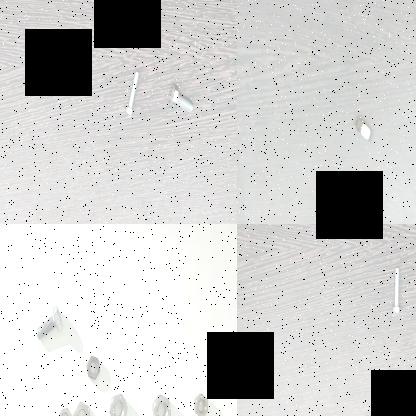Bolts: (34, 302, 64, 342), (165, 83, 193, 119), (389, 262, 405, 320), (123, 70, 141, 114)
NUTS: (350, 112, 374, 148), (84, 350, 102, 380), (151, 391, 171, 416), (107, 392, 127, 416), (192, 389, 208, 416), (71, 400, 92, 416), (54, 405, 73, 416)
